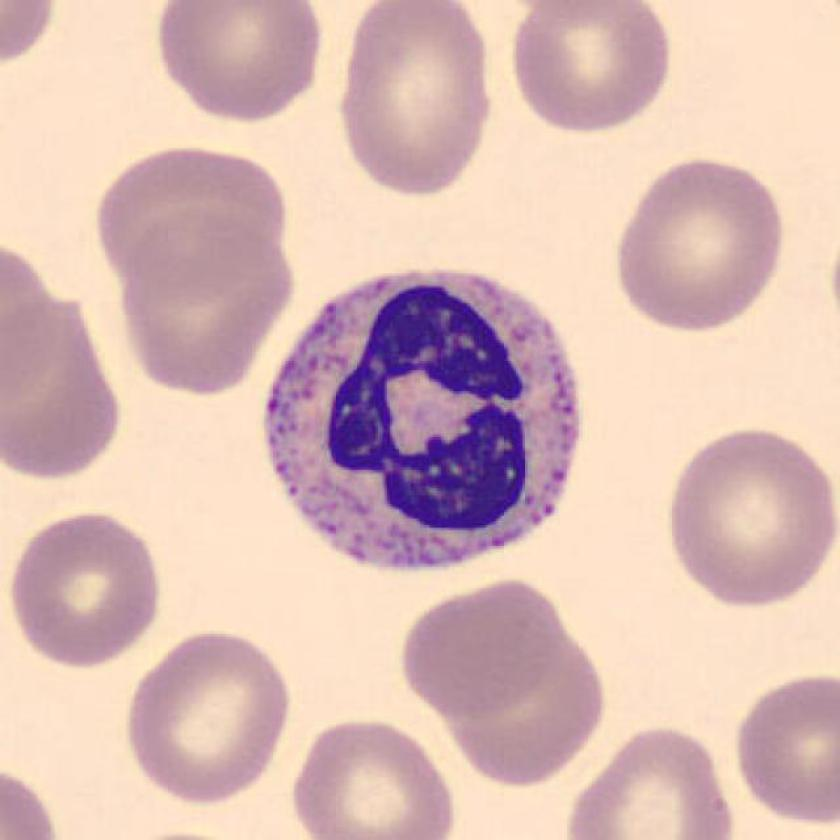neutrophil: (269, 270, 581, 573)
